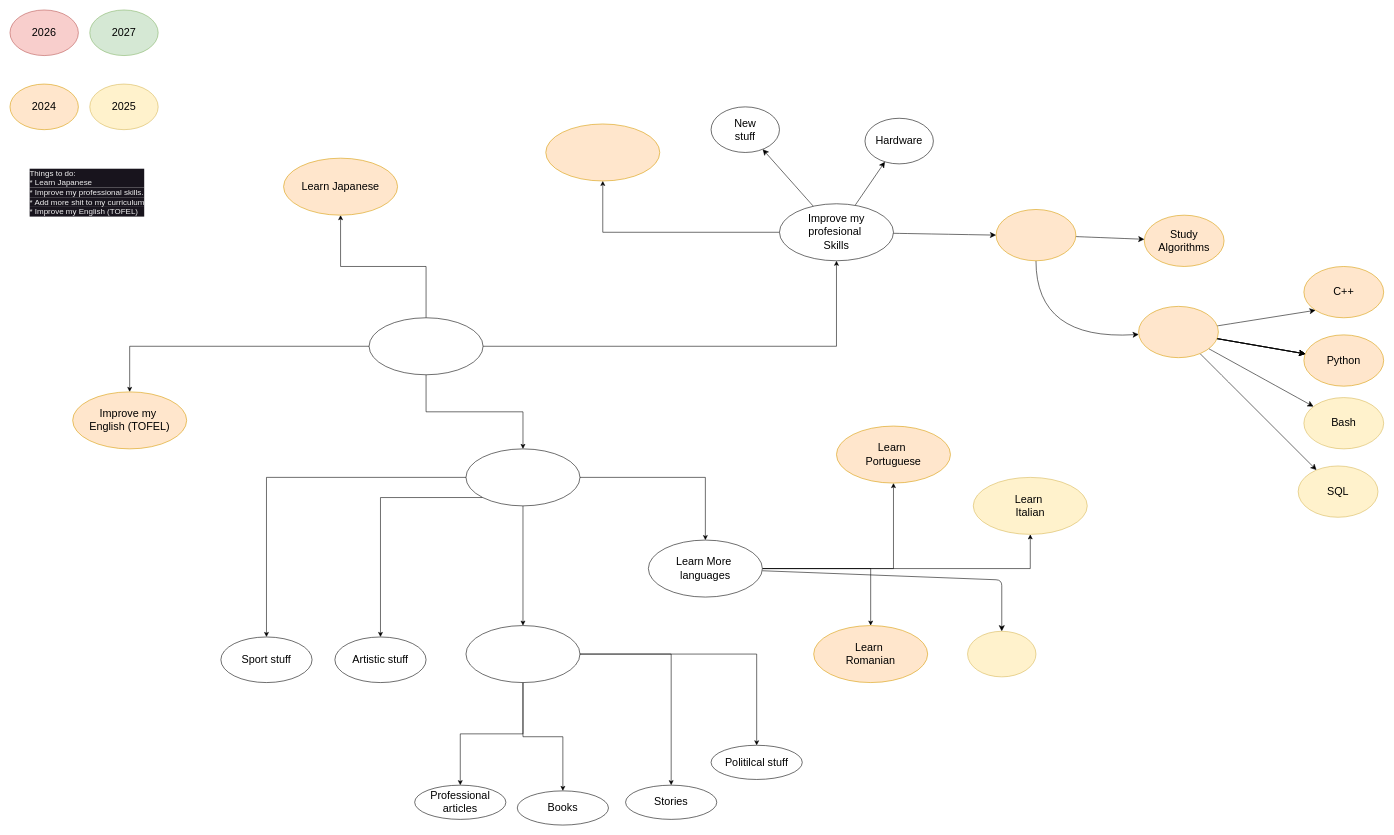
This 1394x835 diagram has some shape labels left out. Each missing label, with the box of its shape:
Coding: (996, 209, 1076, 261)
Keep my job with NXP at least 3 years, or get something better: (545, 123, 660, 181)
Learn German: (967, 631, 1036, 677)
Made my CV, more interesting: (465, 448, 580, 506)
New languages: (1138, 306, 1218, 358)
Things to do: (369, 317, 483, 375)
Write articles of anything: (465, 625, 580, 683)
